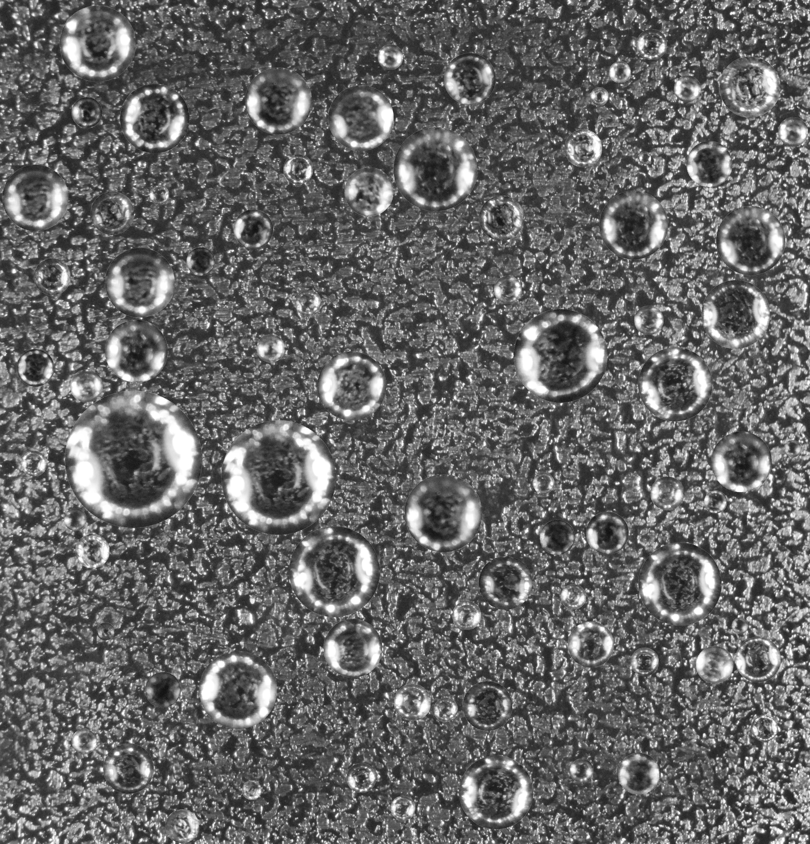Bubble: (64, 390, 201, 527), (221, 420, 335, 534), (513, 309, 607, 402), (289, 526, 379, 617), (393, 127, 477, 211), (638, 542, 721, 625), (404, 474, 482, 552), (199, 651, 276, 728), (59, 5, 135, 81), (459, 755, 533, 829), (638, 347, 712, 421), (120, 83, 189, 153), (105, 247, 174, 317), (599, 190, 668, 259), (317, 351, 386, 420), (716, 206, 785, 275), (701, 280, 770, 348), (245, 67, 311, 134), (2, 164, 68, 230), (328, 85, 393, 150), (105, 319, 167, 382), (719, 56, 780, 117), (711, 431, 771, 492), (323, 619, 382, 677), (478, 556, 532, 609), (444, 53, 495, 104), (103, 743, 153, 793), (462, 681, 512, 730), (344, 167, 393, 216), (567, 621, 613, 667), (686, 141, 732, 186), (479, 195, 524, 240), (735, 637, 780, 682), (90, 191, 133, 234), (586, 511, 628, 554), (618, 753, 659, 794), (233, 209, 273, 248), (564, 129, 602, 167), (16, 349, 54, 386), (33, 258, 70, 295), (696, 646, 733, 683), (394, 684, 430, 720), (539, 519, 574, 554), (145, 672, 180, 707), (650, 476, 684, 510), (75, 534, 109, 568), (165, 809, 198, 843), (70, 369, 102, 402), (636, 29, 667, 59), (71, 97, 102, 127), (283, 154, 313, 184), (778, 117, 808, 146), (346, 763, 376, 792), (634, 305, 663, 334), (452, 601, 481, 629), (630, 647, 658, 675), (256, 334, 284, 362), (186, 247, 214, 275), (494, 275, 521, 303), (674, 75, 700, 102), (751, 715, 777, 741), (295, 290, 321, 316), (377, 44, 403, 69), (21, 450, 46, 476), (71, 729, 96, 754), (561, 584, 586, 609), (390, 796, 415, 820), (433, 698, 457, 722), (569, 758, 593, 782), (704, 490, 727, 513), (63, 508, 86, 530), (533, 472, 554, 493), (609, 61, 630, 82), (149, 185, 169, 204), (242, 780, 261, 799), (590, 87, 608, 105), (96, 622, 114, 640), (731, 617, 748, 634), (784, 440, 801, 457), (638, 151, 651, 164)
